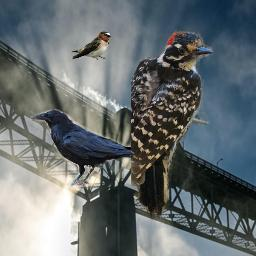Crow: (30, 109, 156, 188)
Swallow: (71, 30, 112, 60)
Woodpecker: (131, 29, 213, 221)
